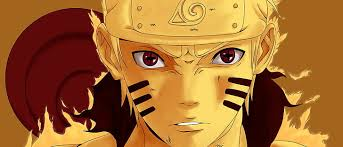Naruto: (91, 1, 283, 147)
